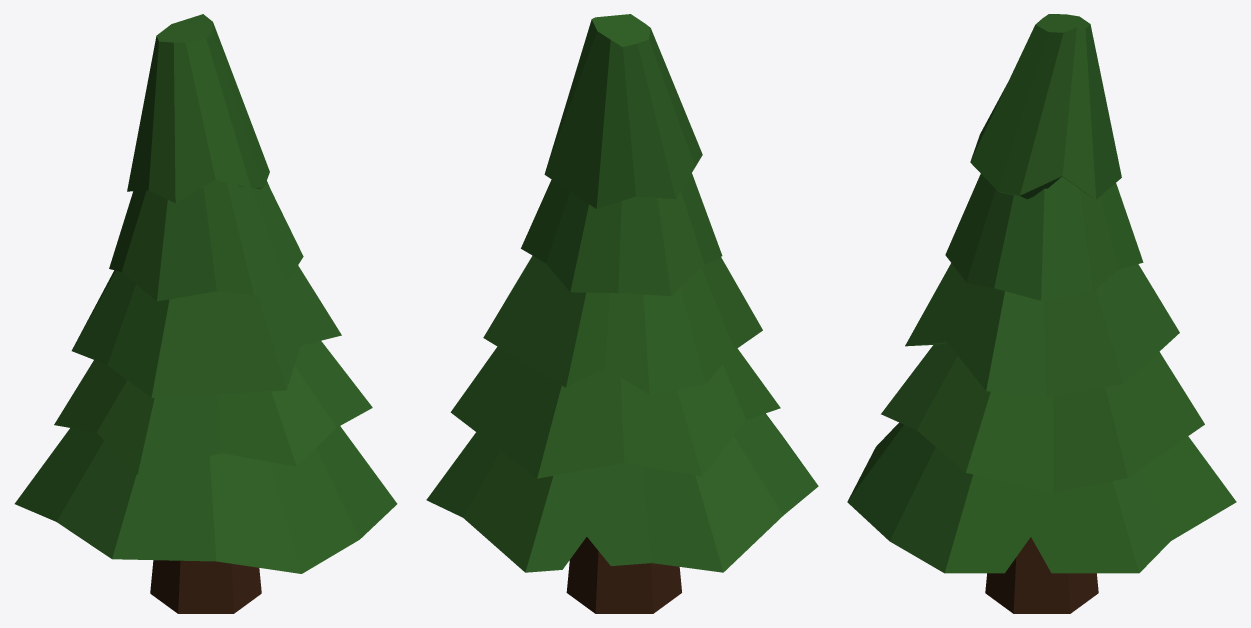
File: lowpoly_tree_2.glb
3 renders of one model, left to right at view 1: azimuth 30°, elevation 25°; view 2: azimuth 150°, elevation 25°; view 3: azimuth 270°, elevation 25°, orthographic. The views are drawn at different scales.
Visible parts, largest first — view 1: Cylinder.001, Cylinder.003, Cylinder.002, Cylinder.004, Cylinder.005, Cylinder; view 2: Cylinder.001, Cylinder.002, Cylinder.003, Cylinder.005, Cylinder.004, Cylinder; view 3: Cylinder.001, Cylinder.002, Cylinder.003, Cylinder.005, Cylinder.004, Cylinder.
Boxes of the visible parts, left/top/right/bottom form: Cylinder.001: left=14, top=426, right=397, bottom=573; Cylinder.003: left=71, top=265, right=341, bottom=398; Cylinder.002: left=54, top=341, right=372, bottom=475; Cylinder.004: left=109, top=179, right=303, bottom=301; Cylinder.005: left=127, top=14, right=269, bottom=203; Cylinder: left=150, top=560, right=261, bottom=613; Cylinder.001: left=426, top=413, right=818, bottom=572; Cylinder.002: left=450, top=346, right=780, bottom=478; Cylinder.003: left=483, top=255, right=762, bottom=394; Cylinder.005: left=544, top=14, right=702, bottom=208; Cylinder.004: left=521, top=173, right=722, bottom=295; Cylinder: left=566, top=537, right=681, bottom=613; Cylinder.001: left=847, top=422, right=1236, bottom=573; Cylinder.002: left=881, top=343, right=1204, bottom=492; Cylinder.003: left=905, top=263, right=1179, bottom=396; Cylinder.005: left=970, top=14, right=1121, bottom=199; Cylinder.004: left=945, top=174, right=1143, bottom=300; Cylinder: left=985, top=537, right=1098, bottom=613.
Size of the model in its own units: 5.14 by 9.38 by 5.78.
